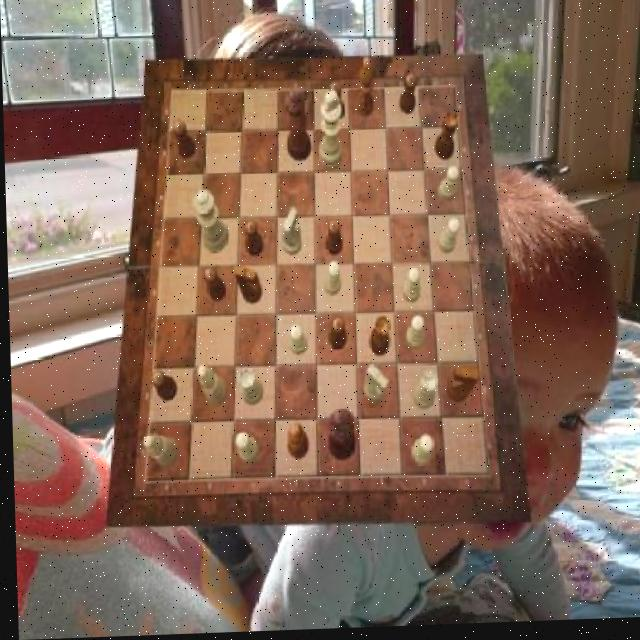bishop: (354, 60, 373, 121), (286, 424, 307, 462)
black-bishop: (325, 409, 353, 463)
black-king: (444, 368, 478, 407), (233, 268, 261, 306)
black-knight: (172, 122, 196, 161), (149, 372, 175, 404), (202, 267, 225, 303), (397, 77, 416, 117), (242, 222, 262, 259), (327, 84, 345, 125), (326, 319, 345, 354), (324, 223, 342, 259)
black-pawn: (286, 93, 312, 164)
black-queen: (434, 116, 459, 164), (366, 320, 389, 361)
black-rook: (197, 364, 227, 408), (141, 434, 177, 469)
white-bishop: (316, 93, 342, 173)
white-king: (279, 210, 300, 258), (361, 366, 386, 405)
white-knight: (436, 222, 460, 257), (437, 170, 460, 205), (407, 439, 431, 472), (233, 434, 257, 466), (403, 317, 423, 352), (400, 271, 419, 306), (322, 263, 340, 298), (286, 327, 306, 358)
white-pawn: (192, 191, 229, 256)
white-queen: (410, 374, 437, 413), (237, 370, 262, 408)
